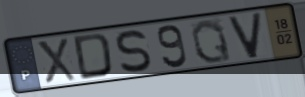9: (156, 23, 189, 69)
D: (72, 31, 115, 82)
Q: (189, 17, 234, 65)
S: (114, 28, 153, 75)
V: (226, 11, 264, 61)
X: (34, 37, 79, 86)
